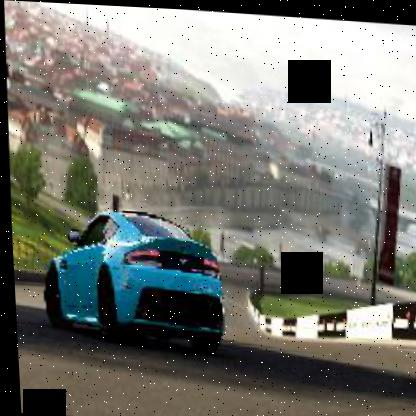not_emergency: (33, 198, 232, 345)
